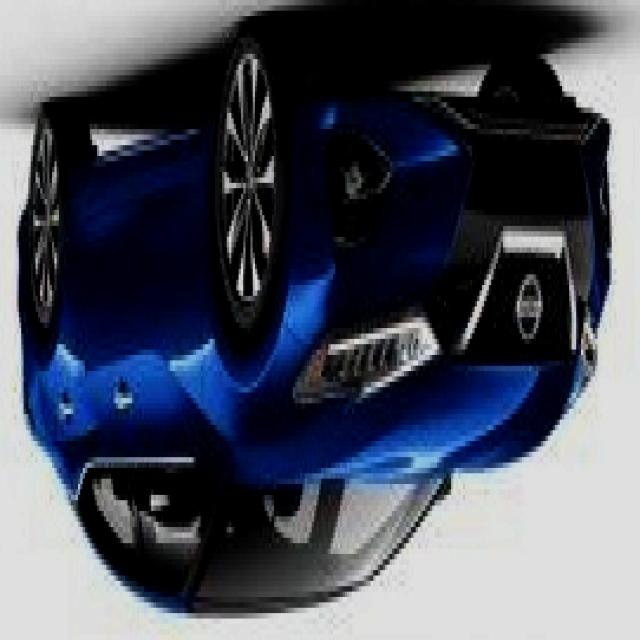blue: (18, 29, 614, 621)
